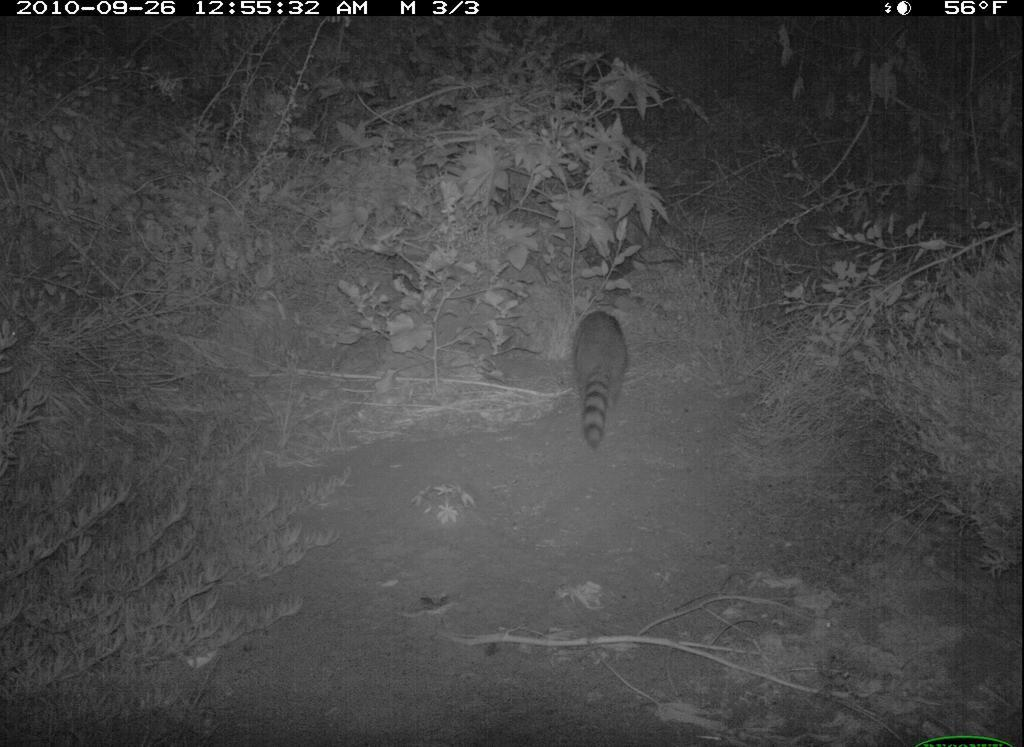raccoon: (554, 300, 645, 463)
